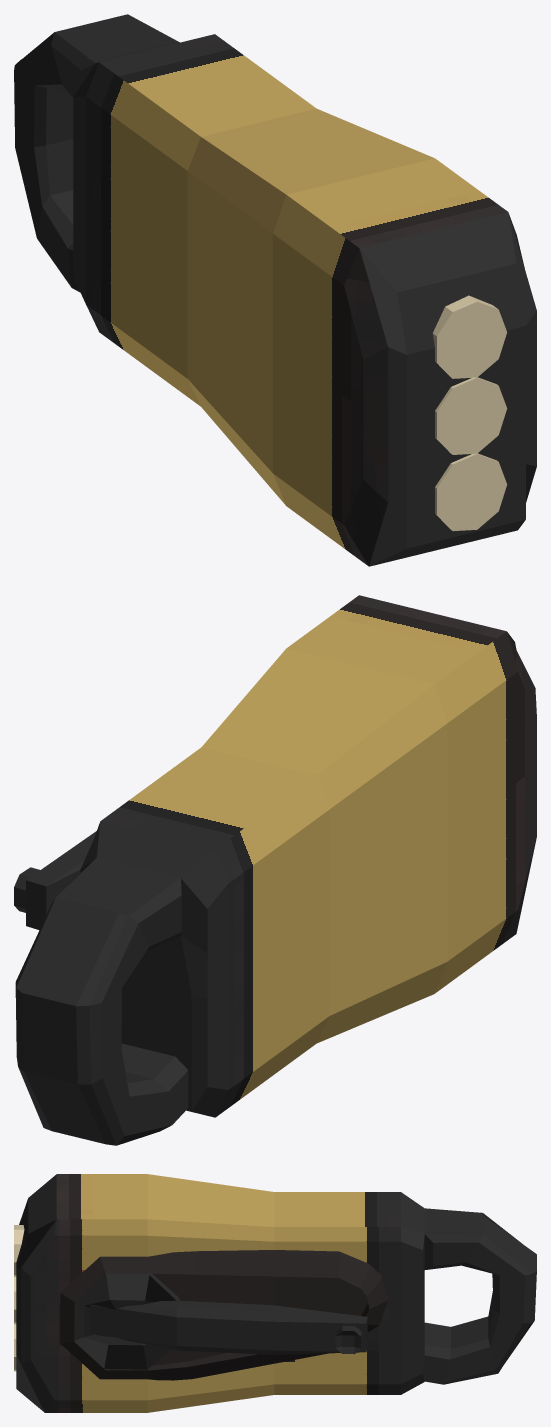
File: crank_flashlight.gltf
3 renders of one model, top to bottom at view 1: azimuth 30°, elevation 25°; view 2: azimuth 150°, elevation 25°; view 3: azimuth 270°, elevation 25°, orthographic. The views are drawn at different scales.
Visible parts, largest first — view 1: flashlightbody, cylinder (×3); view 2: flashlightbody, beveled_cuboid; view 3: flashlightbody, tube, beveled_cuboid (×2), cylinder (×2).
Boxes of the visible parts, left/top/right/bottom form: flashlightbody: left=14, top=14, right=536, bottom=566; cylinder (×3): left=432, top=295, right=507, bottom=531; flashlightbody: left=15, top=595, right=536, bottom=1145; beveled_cuboid: left=26, top=831, right=96, bottom=930; flashlightbody: left=16, top=1174, right=536, bottom=1412; tube: left=60, top=1250, right=388, bottom=1380; beveled_cuboid (×2): left=90, top=1300, right=367, bottom=1354; cylinder (×2): left=14, top=1225, right=179, bottom=1369.
Size of the model in its own units: 0.2498 by 0.2812 by 0.6883.
1 material, 1 textured.
